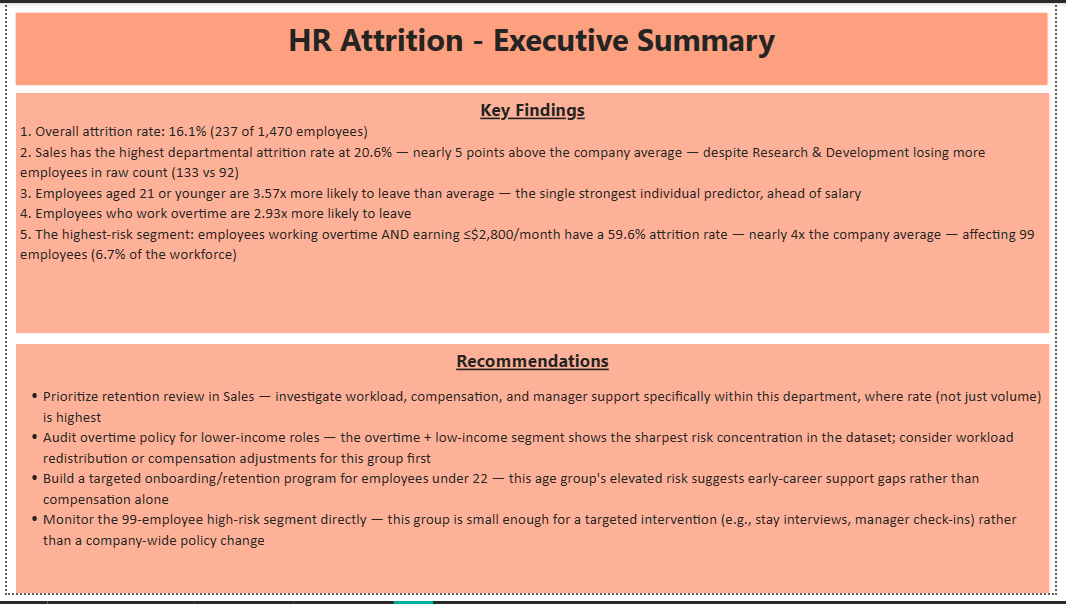

Layout of this report page (visuals, bound fields, positions):
{"tool":"powerbi","page":{"name":"Executive Summary","canvas":[1280,720],"ordinal":0},"visuals":[{"type":"textbox","box":[9.8,11,1260.6,90.3],"z":0},{"type":"textbox","box":[11,109.8,1260.6,292.9],"z":1000},{"type":"textbox","box":[11,416.1,1260.6,303.9],"z":2000}]}

Visuals, with their boxes in screenshot pixels (x1, y1, x2, y2), scaled from the page's 1280x720 canvas onto the 1066x604 screenshot:
textbox: (x1=8, y1=9, x2=1058, y2=85)
textbox: (x1=9, y1=92, x2=1059, y2=338)
textbox: (x1=9, y1=349, x2=1059, y2=603)
